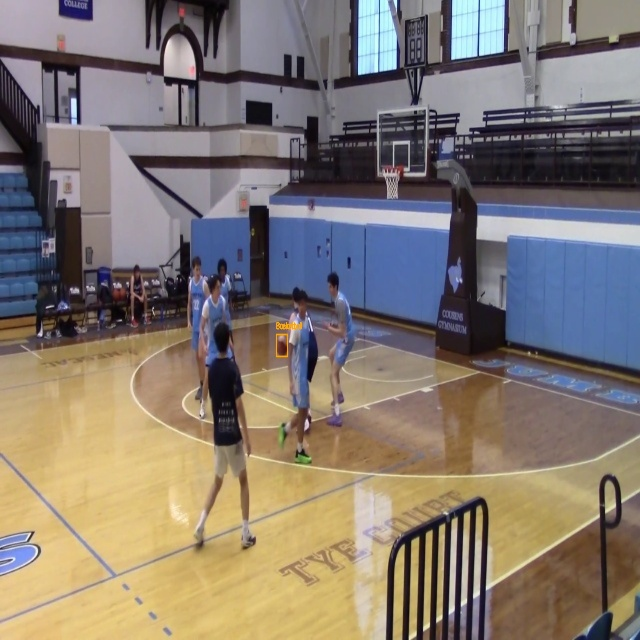Basketball: (276, 335, 288, 356)
